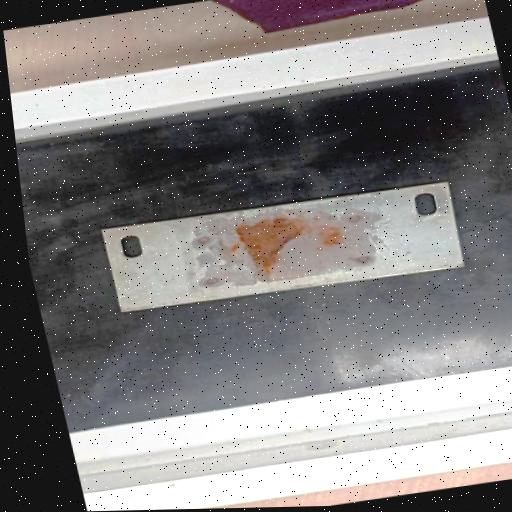corrosion: (236, 217, 310, 274)
